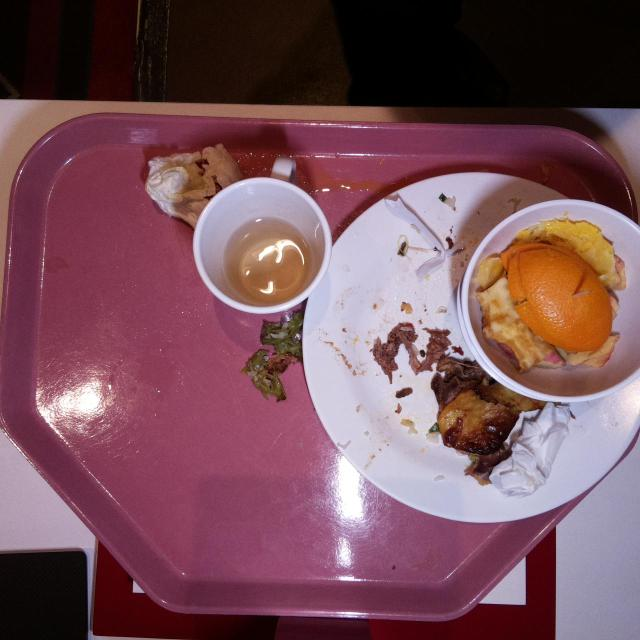Apple-core: (477, 272, 558, 373)
Meat: (437, 392, 515, 458)
Orange-peel: (473, 218, 623, 366)
Vegetable: (245, 312, 301, 402)
